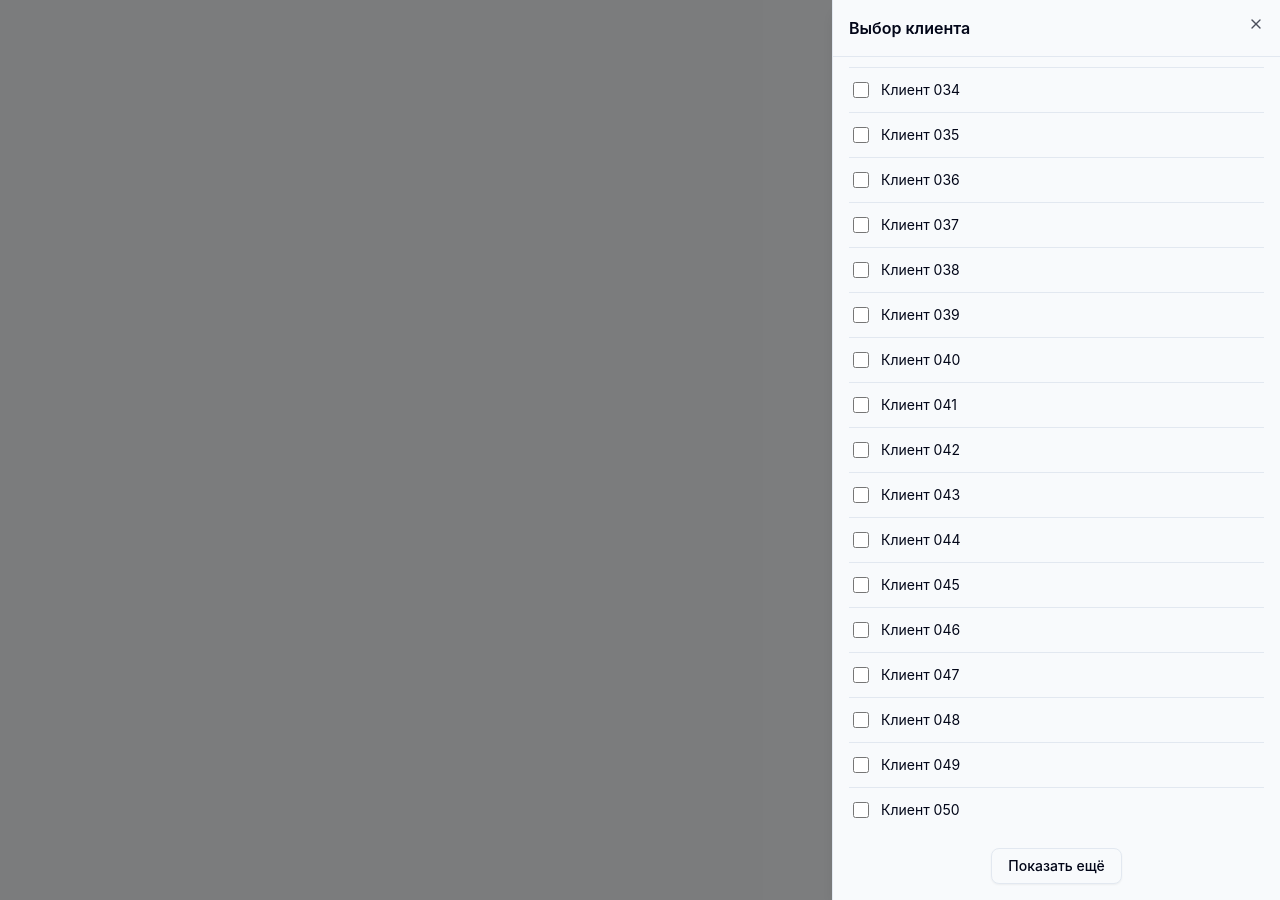
панель выбора клиента › догружает следующую порцию по «Показать ещё»
(page scrolled)
Expected: the text "Клиент 050" is shown, 881,801 -> 960,818
Expected: the text "Клиент 051" is not shown
Click the button "Показать ещё".
click(1056, 866)  # box 991,848 -> 1122,884
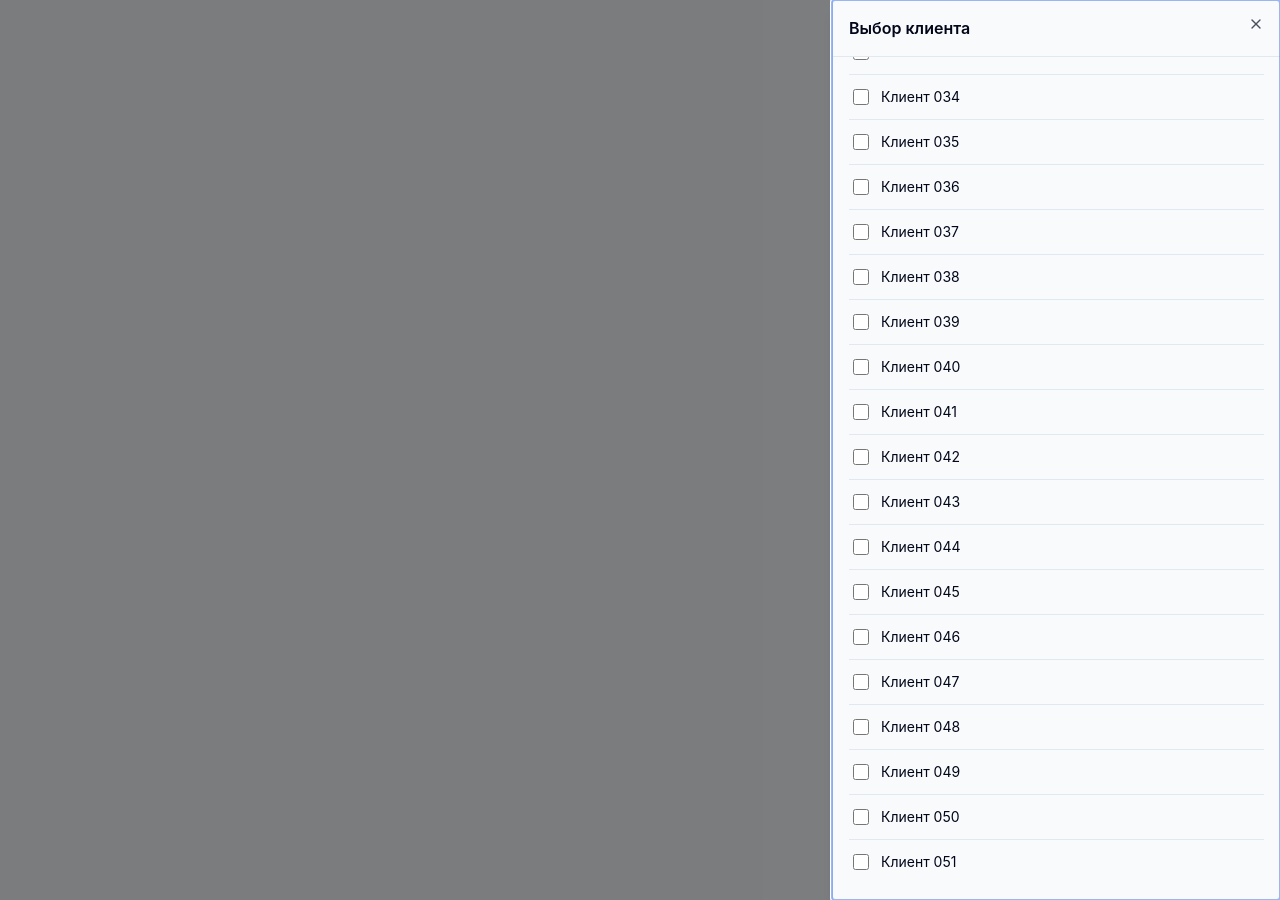
Expected: the text "Клиент 051" is shown, 881,853 -> 956,870
Expected: the button "Показать ещё" is gone
